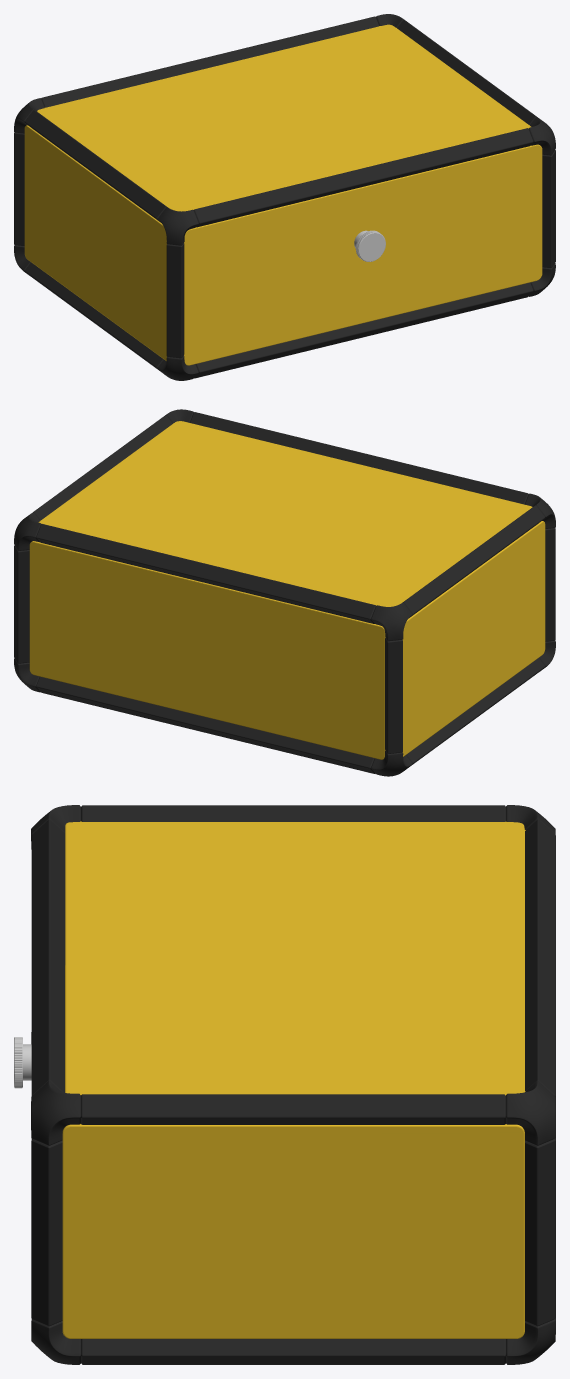
3 views of the same model, one above another, from view 1: azimuth 30°, elevation 25°; view 2: azimuth 150°, elevation 25°; view 3: azimuth 270°, elevation 25° (orthographic). The views are drawn at different scales.
Parts seen in each view (by area): view 1: 479x329x154; view 2: 479x329x154; view 3: 479x329x154.
Part boxes in pixels (bbox=[...]): 479x329x154: bbox=[14, 14, 555, 380]; 479x329x154: bbox=[14, 409, 555, 776]; 479x329x154: bbox=[14, 805, 555, 1364].
Size of the model in its own units: 0.5567 by 0.2316 by 0.4196.
